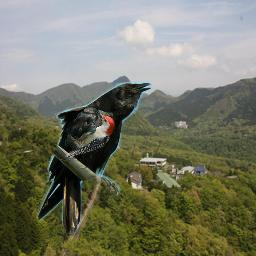Crow: (37, 81, 152, 235)
Woodpecker: (65, 111, 115, 157)
